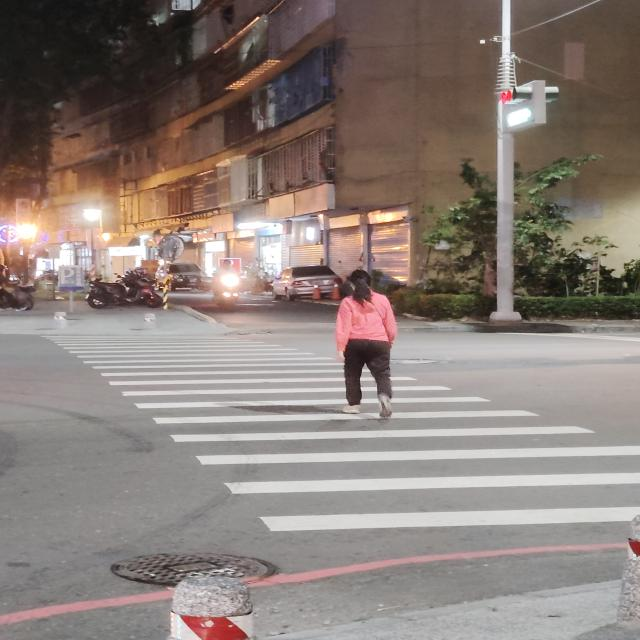person: (335, 270, 397, 419)
zebra crossing: (44, 333, 640, 529)
